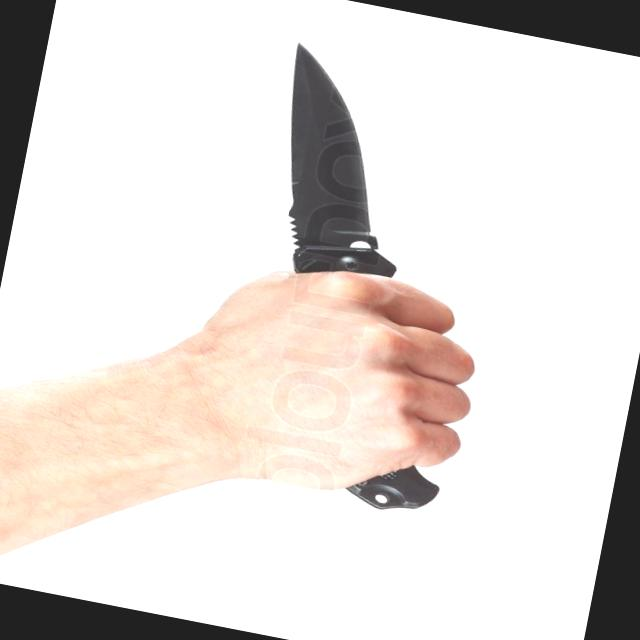knife: (203, 25, 542, 478)
